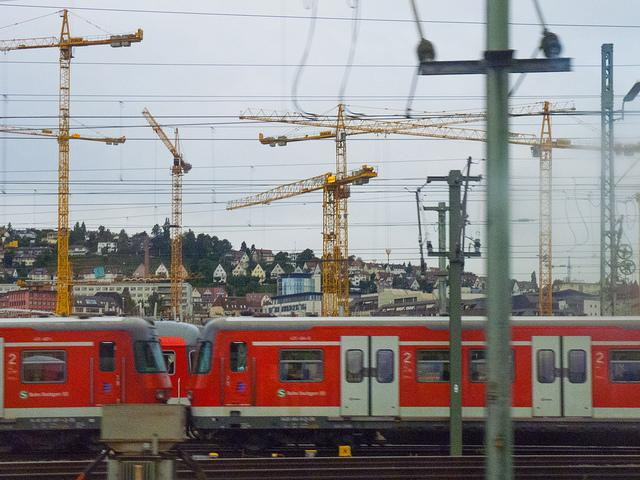Train: (191, 316, 639, 434), (0, 310, 187, 453)
